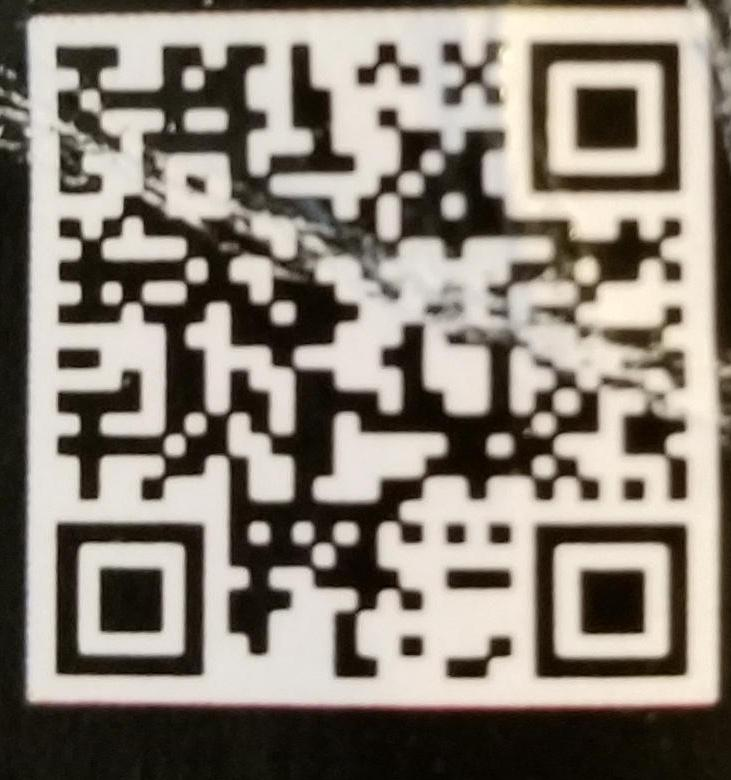qrcode: (53, 38, 691, 679)
